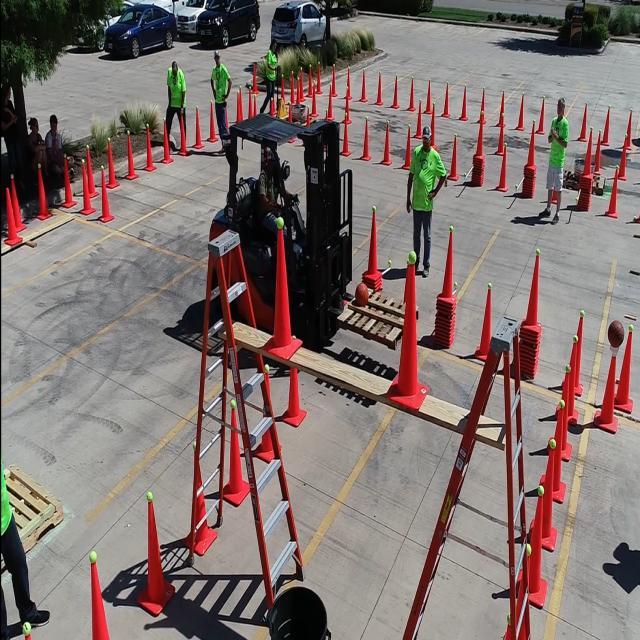driver: (252, 144, 296, 228)
forklift: (225, 120, 351, 339)
person: (408, 122, 440, 270), (550, 102, 568, 208), (210, 49, 230, 118), (167, 57, 185, 121), (0, 82, 18, 144), (266, 38, 280, 98)
